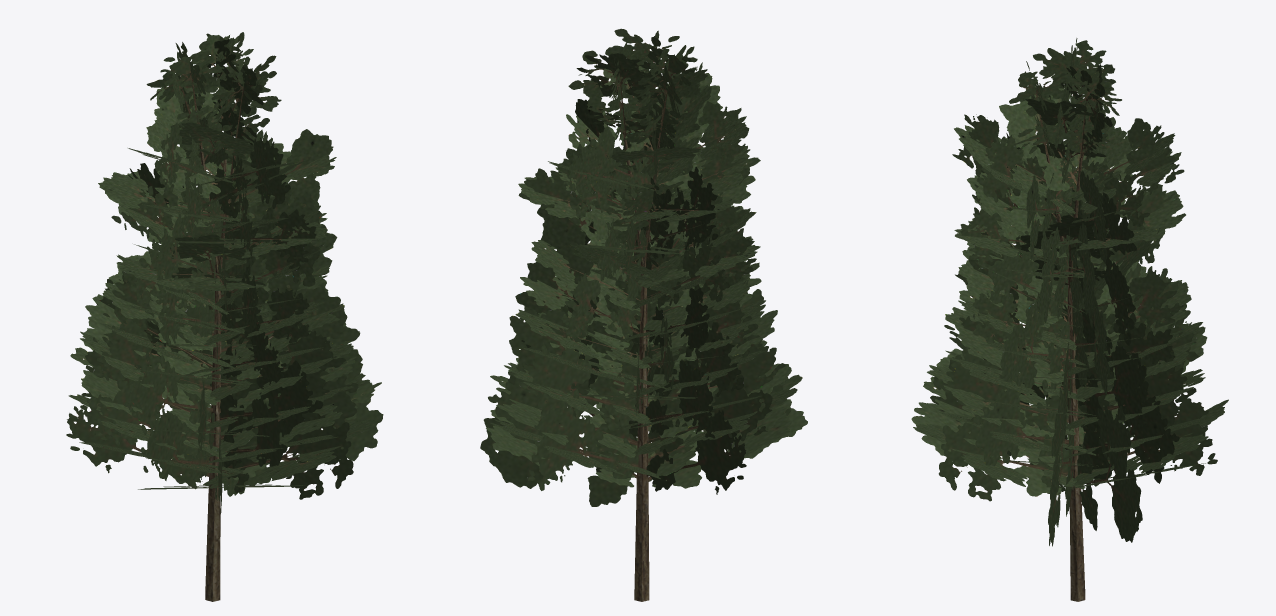
The model's file is tree-05.glb.
3 views of the same model, side by side, from view 1: azimuth 30°, elevation 25°; view 2: azimuth 150°, elevation 25°; view 3: azimuth 270°, elevation 25° (orthographic). The views are drawn at different scales.
Parts seen in each view (by area): view 1: Tilia_europaea_mature_02_LoD2A_summer_obj0_trunk; view 2: Tilia_europaea_mature_02_LoD2A_summer_obj0_trunk; view 3: Tilia_europaea_mature_02_LoD2A_summer_obj0_trunk.
Boxes of the visible parts, bbox=[...] form: Tilia_europaea_mature_02_LoD2A_summer_obj0_trunk: bbox=[66, 32, 383, 601]; Tilia_europaea_mature_02_LoD2A_summer_obj0_trunk: bbox=[480, 28, 807, 601]; Tilia_europaea_mature_02_LoD2A_summer_obj0_trunk: bbox=[911, 38, 1228, 601].
Bounding box in the file's own units: 13.35 × 20.63 × 12.94.
1 material, 1 textured.
